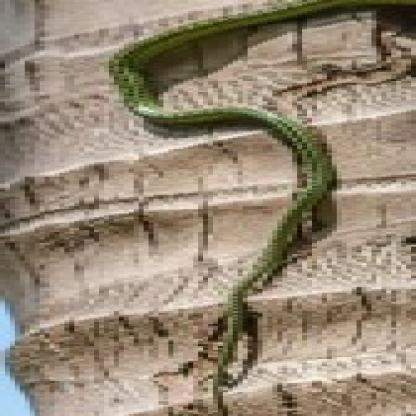snakes: (92, 0, 395, 402)
